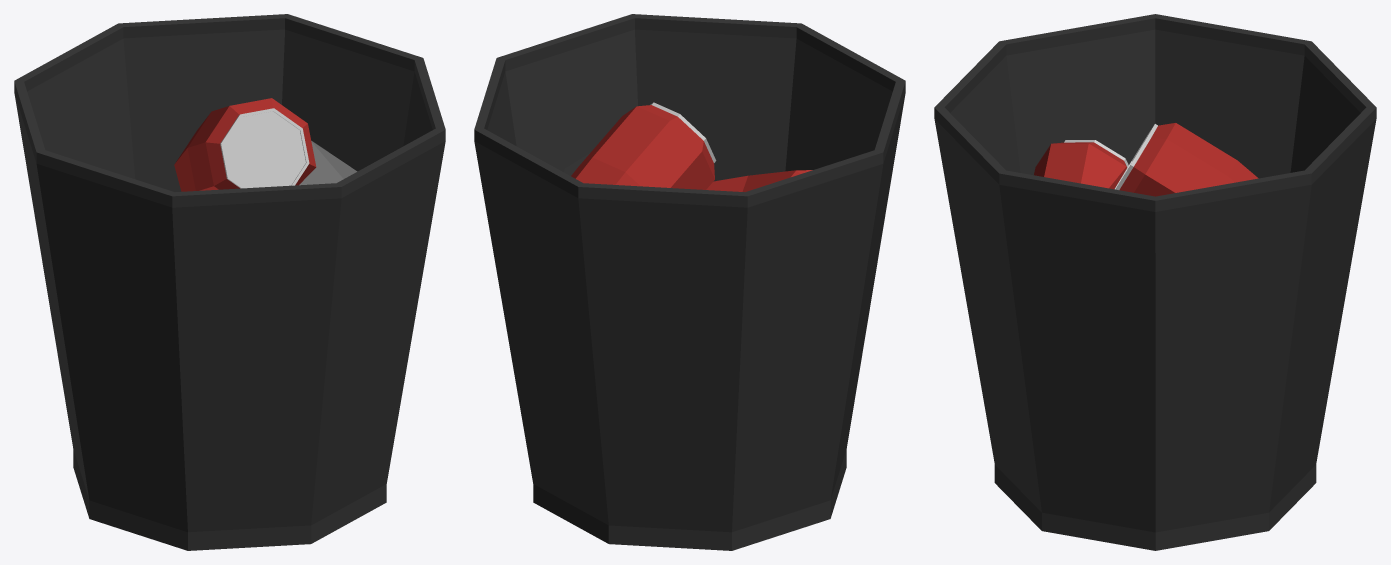
Rendered from trashcan.glb.
The picture shows the model from 3 angles, left to right: view 1: azimuth 30°, elevation 25°; view 2: azimuth 150°, elevation 25°; view 3: azimuth 270°, elevation 25°; orthographic projection.
Parts seen in each view (by area): view 1: trashcan, canTop, trash2; view 2: trashcan, canTop, canSide; view 3: trashcan, canTop, canSide.
Part boxes in pixels (x1,y1,x2,y2): trashcan: (14,14,445,550); canTop: (174,98,316,191); trash2: (299,141,357,185); trashcan: (474,14,905,550); canTop: (571,102,716,189); canSide: (706,170,812,191); trashcan: (934,14,1376,550); canTop: (1114,123,1258,196); canSide: (1034,140,1128,189).
Size of the model in its own units: 0.9199 by 0.8623 by 0.9199.
